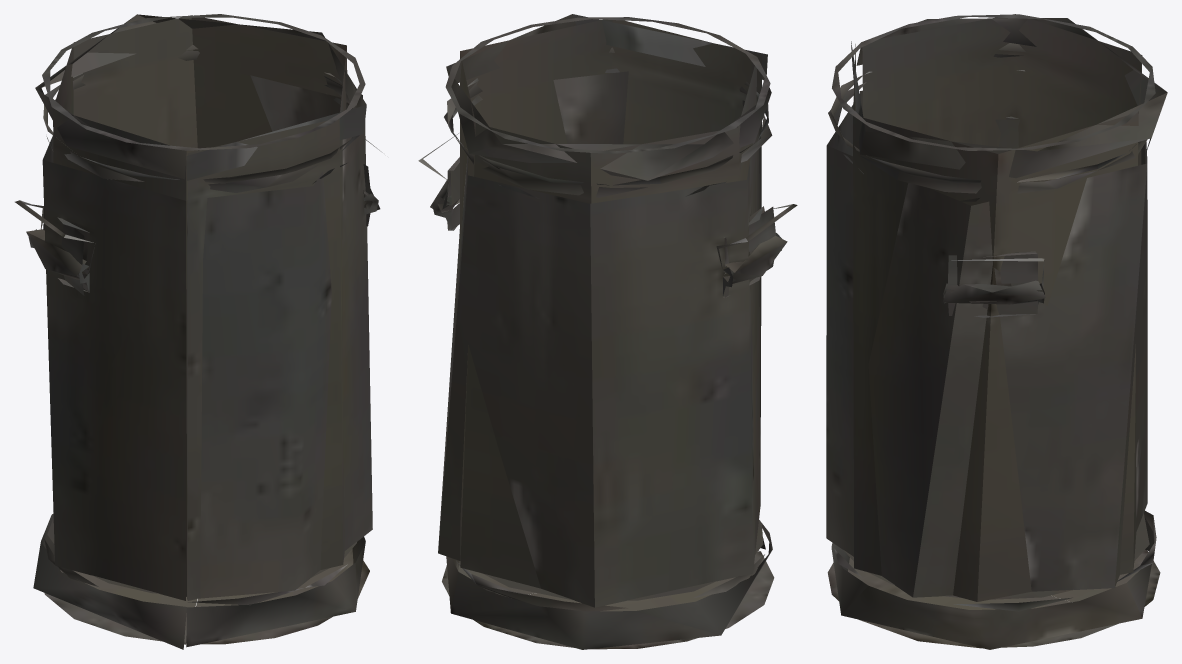
The model's file is detail_streetBin.glb.
The picture shows the model from 3 angles, left to right: view 1: azimuth 30°, elevation 25°; view 2: azimuth 150°, elevation 25°; view 3: azimuth 270°, elevation 25°; orthographic projection.
Visible parts, largest first — view 1: detail_streetBin_LOD0; view 2: detail_streetBin_LOD0; view 3: detail_streetBin_LOD0.
Part boxes in pixels (box(x1,y1,x2,y2)): detail_streetBin_LOD0: box(15, 14, 382, 649); detail_streetBin_LOD0: box(418, 14, 797, 649); detail_streetBin_LOD0: box(826, 14, 1167, 649).
Size of what is drawn, in the model's own units: 0.6333 by 0.9062 by 0.5664.
Materials: 1 (1 with a texture image).
